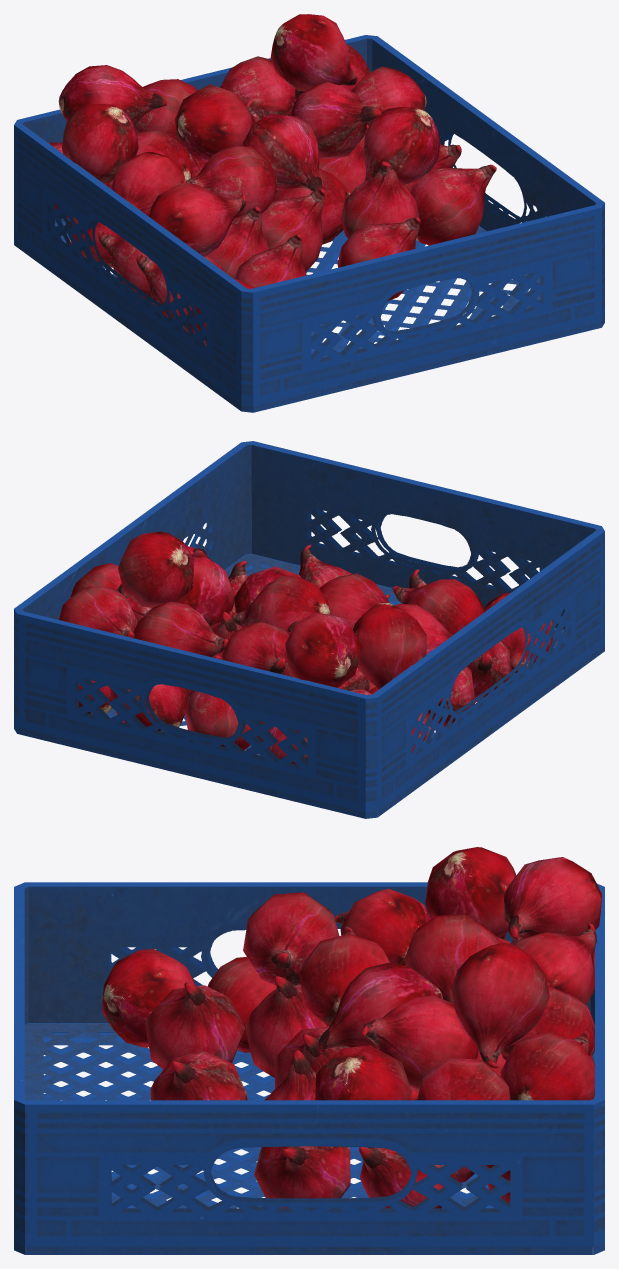
Rendered from Prop_Onion_Crate.fbx.
The picture shows the model from 3 angles, top to bottom: view 1: azimuth 30°, elevation 25°; view 2: azimuth 150°, elevation 25°; view 3: azimuth 270°, elevation 25°; orthographic projection. The views are drawn at different scales.
Visible parts, largest first — view 1: Box_Blue, Onion; view 2: Box_Blue, Onion; view 3: Box_Blue, Onion.
Part boxes in pixels (left/top/right/bottom): Box_Blue: left=14, top=35, right=604, bottom=412; Onion: left=48, top=14, right=496, bottom=345; Box_Blue: left=14, top=441, right=604, bottom=818; Onion: left=58, top=531, right=552, bottom=764; Box_Blue: left=14, top=882, right=604, bottom=1254; Onion: left=102, top=847, right=601, bottom=1208.
Size of the model in its own units: 28.84 by 14.61 by 32.42.
